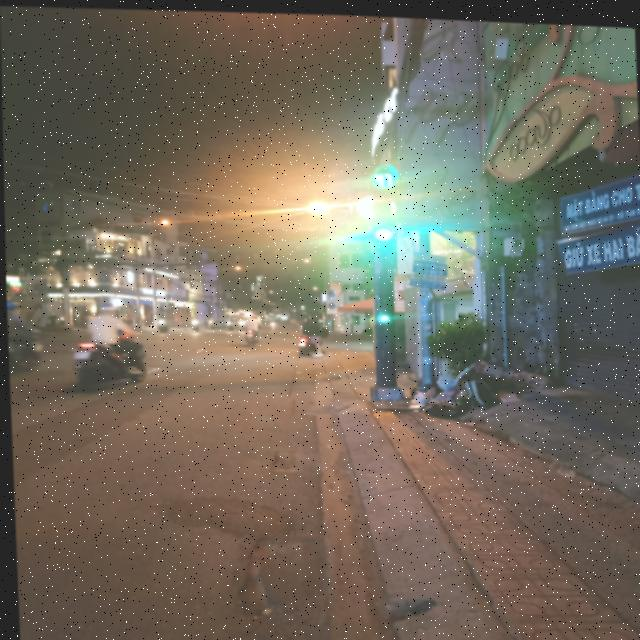Green: (365, 190, 400, 253), (371, 279, 398, 326)
